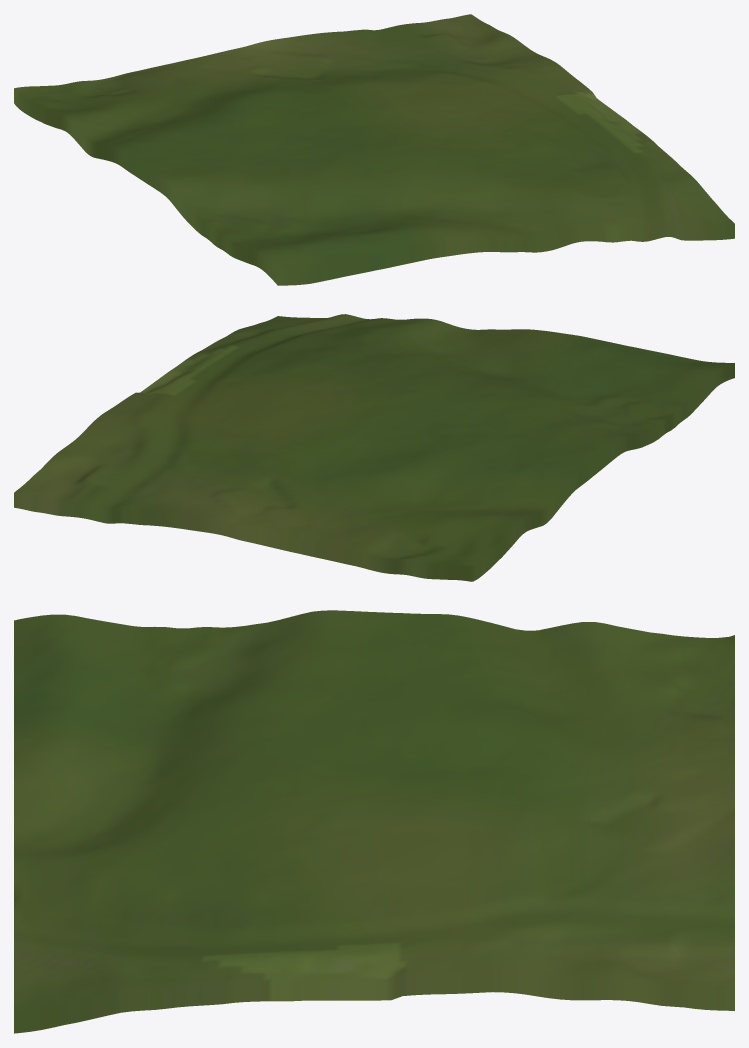
The model's file is terrain_9_-22.glb.
3 views of the same model, one above another, from view 1: azimuth 30°, elevation 25°; view 2: azimuth 150°, elevation 25°; view 3: azimuth 270°, elevation 25° (orthographic). The views are drawn at different scales.
Visible parts, largest first — view 1: terrain_9_-22; view 2: terrain_9_-22; view 3: terrain_9_-22.
Part boxes in pixels (x1=…): terrain_9_-22: x1=14, y1=14, x2=734, y2=285; terrain_9_-22: x1=14, y1=314, x2=734, y2=581; terrain_9_-22: x1=14, y1=610, x2=734, y2=1033.
Bounding box in the file's own units: 256 × 46.43 × 256.
